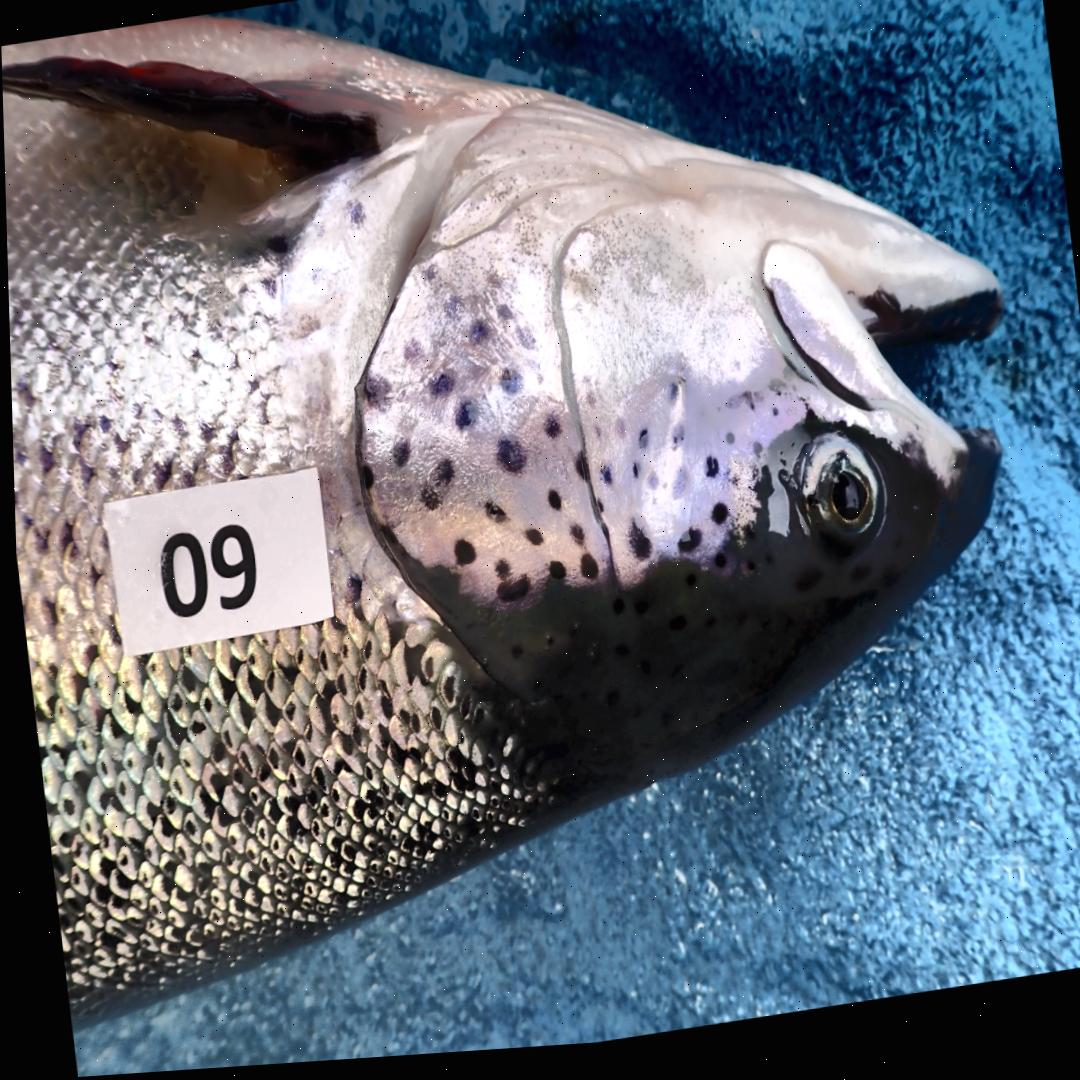spot: (493, 444, 523, 481), (360, 377, 385, 413), (492, 582, 525, 609), (625, 529, 647, 569), (451, 408, 472, 437), (673, 537, 697, 562), (496, 376, 519, 402), (415, 490, 437, 516), (427, 379, 450, 403), (450, 545, 471, 571), (480, 507, 502, 530), (389, 446, 406, 473), (576, 561, 593, 587), (433, 466, 450, 492), (467, 326, 485, 350), (707, 512, 724, 534), (541, 423, 558, 445), (571, 461, 584, 489), (669, 478, 682, 506), (521, 535, 539, 553), (544, 568, 561, 587), (701, 466, 715, 488), (544, 496, 558, 518), (490, 566, 505, 586), (566, 532, 580, 553), (358, 470, 370, 494), (669, 436, 680, 456), (597, 474, 608, 494), (666, 392, 675, 410), (636, 437, 644, 457), (644, 482, 654, 498), (722, 442, 731, 454), (750, 453, 758, 466), (592, 506, 599, 520), (629, 470, 635, 486), (769, 418, 775, 426)
